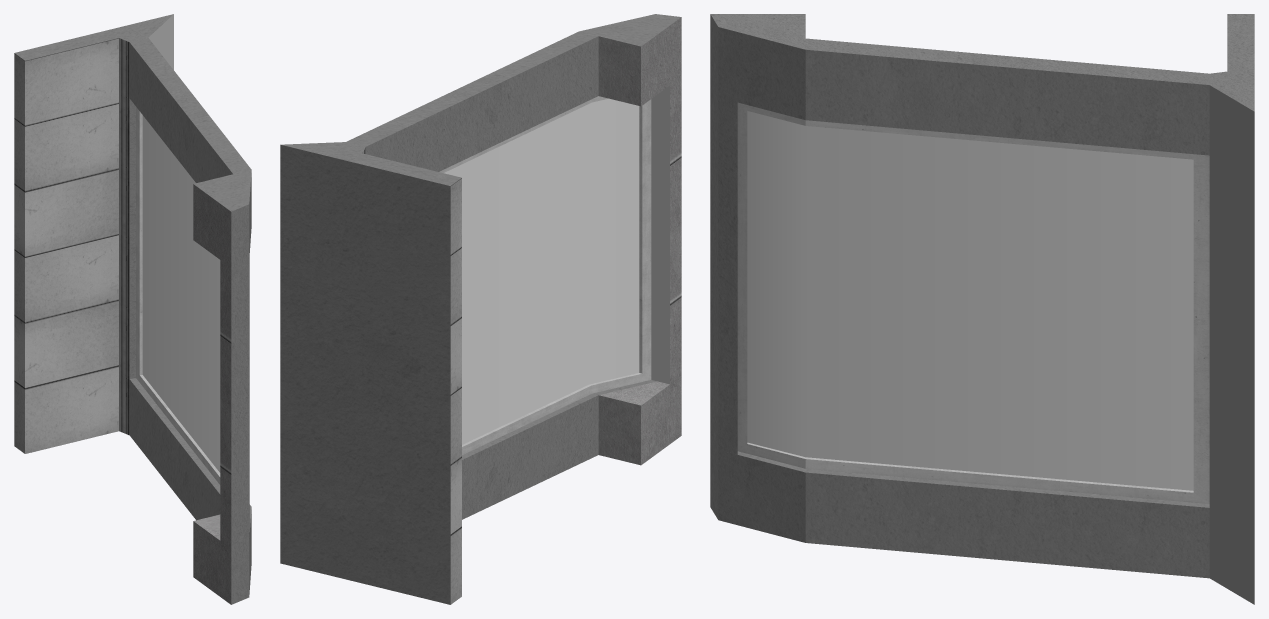
The model's file is Side_room_window_bottom.fbx.
3 views of the same model, side by side, from view 1: azimuth 30°, elevation 25°; view 2: azimuth 150°, elevation 25°; view 3: azimuth 270°, elevation 25° (orthographic). The views are drawn at different scales.
Visible parts, largest first — view 1: Side_room_window_bottom, glass_002; view 2: Side_room_window_bottom, glass_002; view 3: glass_002, Side_room_window_bottom.
Boxes of the visible parts, x1,y1,x2,y2 form: Side_room_window_bottom: (14,14,251,604); glass_002: (142,115,220,472); Side_room_window_bottom: (280,14,681,604); glass_002: (444,98,639,444); glass_002: (747,111,1193,490); Side_room_window_bottom: (710,14,1254,604).
Size of the model in its own units: 1.7 by 4 by 4.
